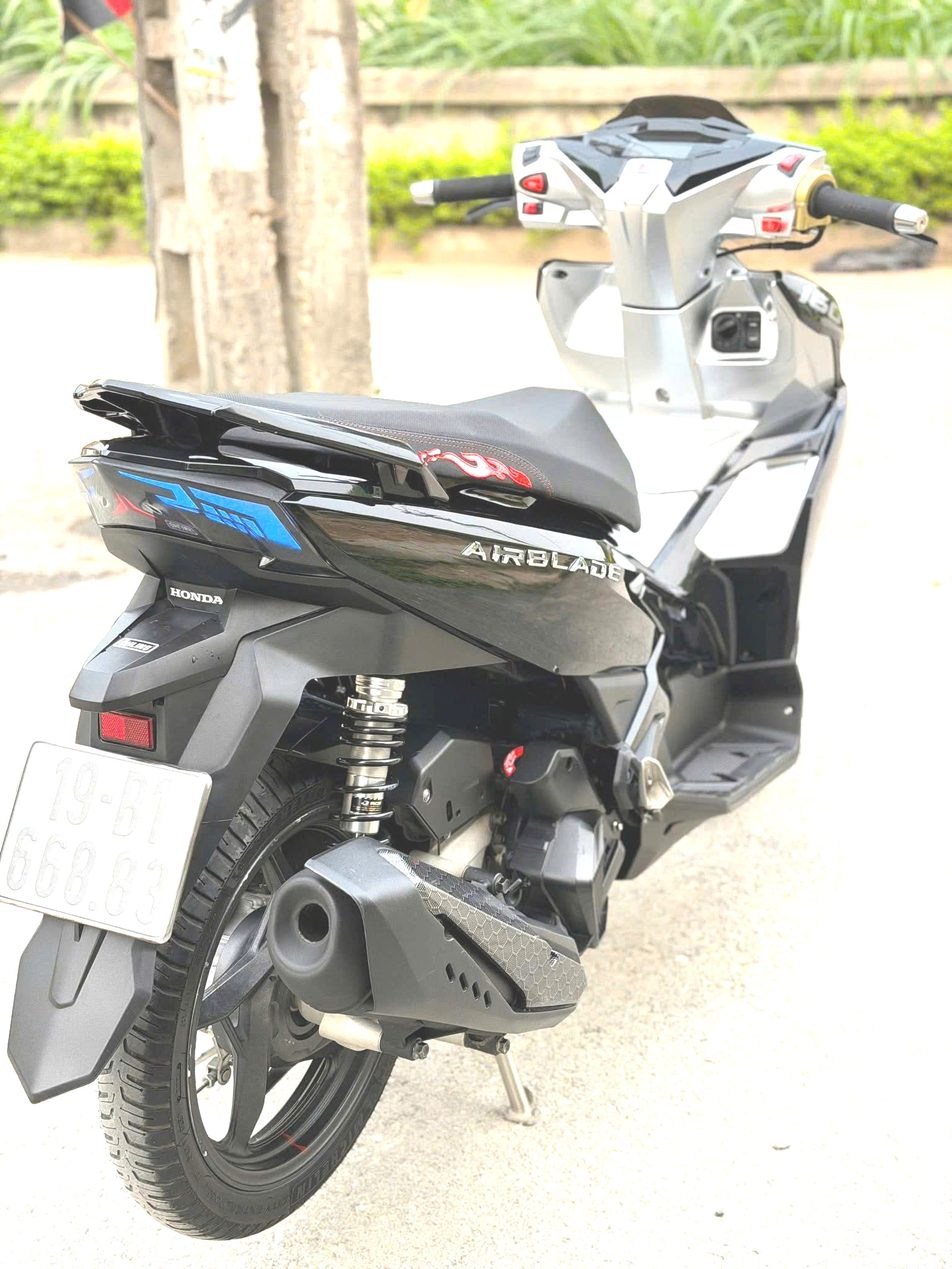Bien-so: (4, 746, 238, 983)
